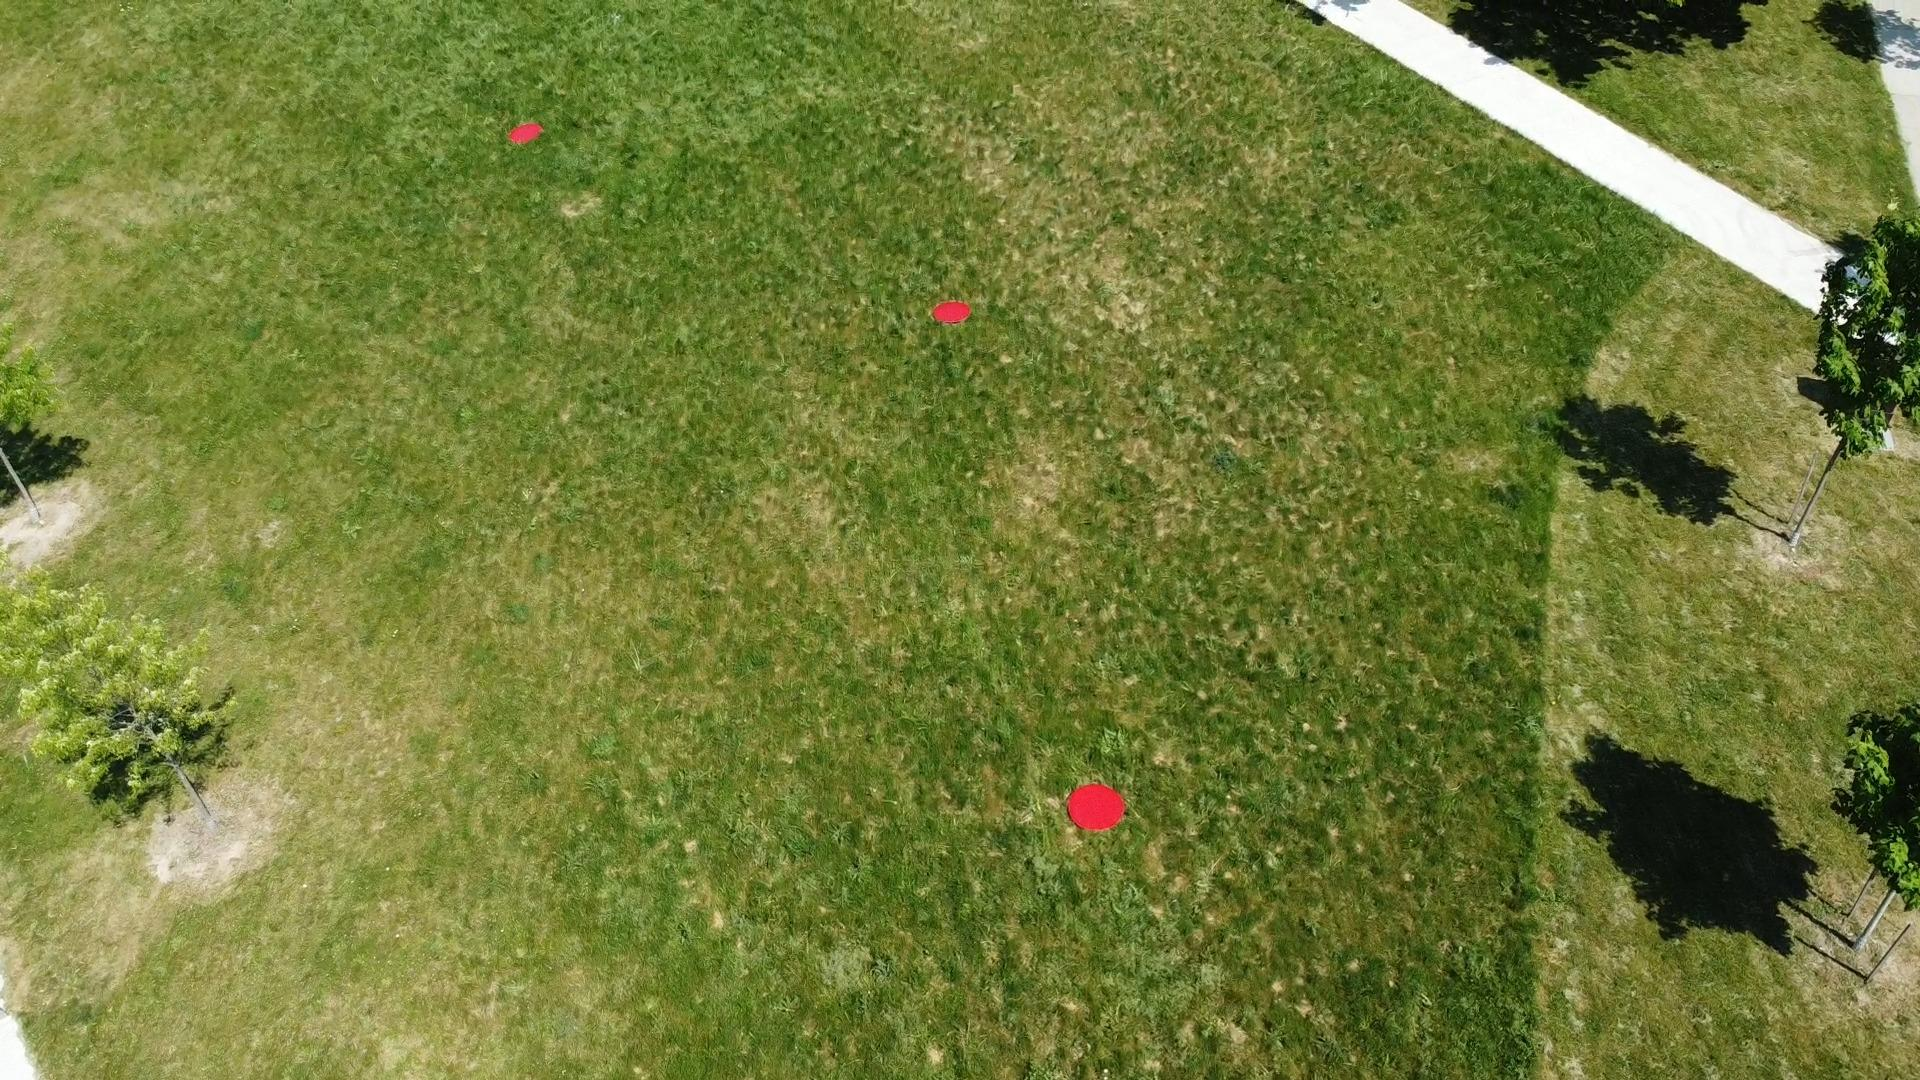Red: (1064, 783, 1125, 831), (931, 299, 972, 324), (509, 123, 545, 145)
